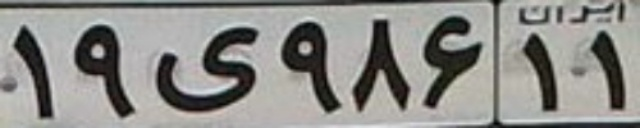1: (9, 23, 55, 117), (588, 28, 626, 110), (519, 33, 558, 111)
6: (418, 14, 484, 109)
8: (348, 18, 412, 112)
9: (69, 21, 138, 117), (278, 19, 340, 113)
ye: (151, 25, 268, 113)
